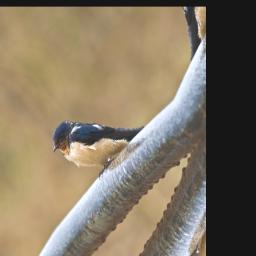Swallow: (44, 74, 145, 197)
